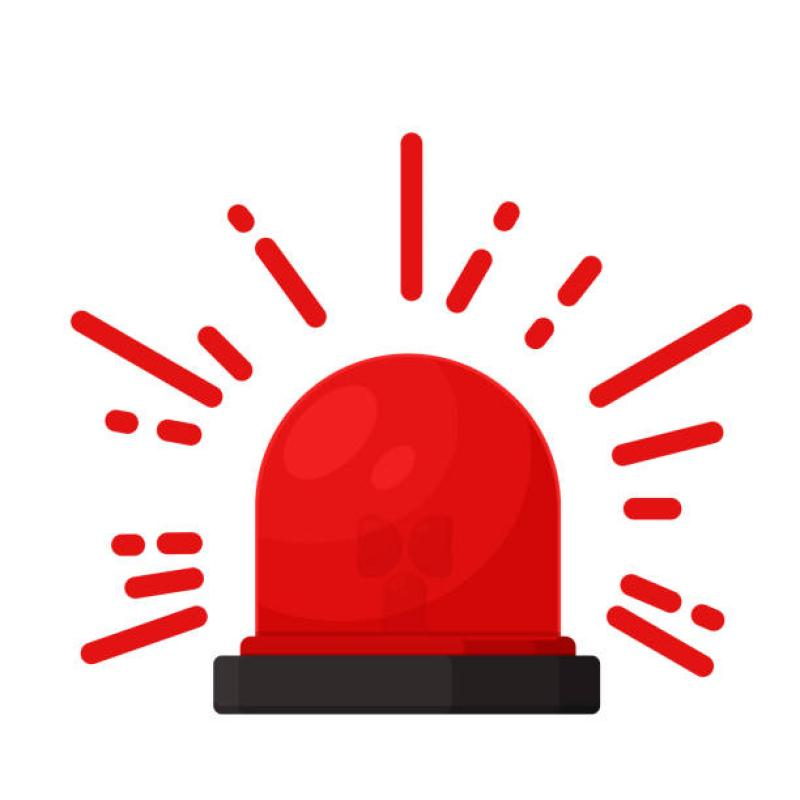AmbulanceSiren: (131, 299, 619, 720)
